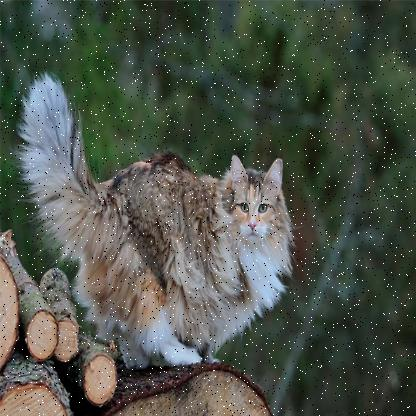cat: (22, 63, 297, 373)
